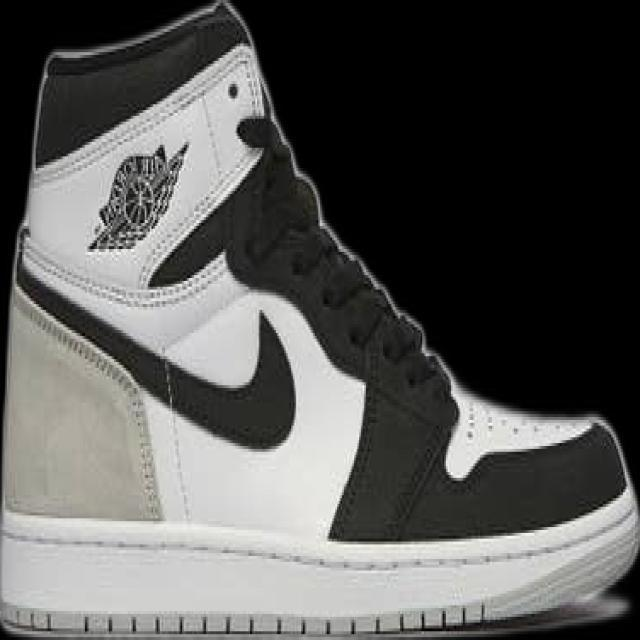J1_InsoleChar: (2, 2, 636, 634)
J1_ShoeLogo: (85, 139, 190, 253)
J1_StitchPattern: (231, 171, 460, 535), (4, 501, 637, 576), (14, 284, 167, 521), (279, 217, 426, 380), (2, 599, 490, 635), (16, 233, 230, 311), (15, 290, 138, 399), (383, 416, 456, 537), (154, 349, 197, 525), (121, 394, 166, 521), (396, 600, 489, 632)
